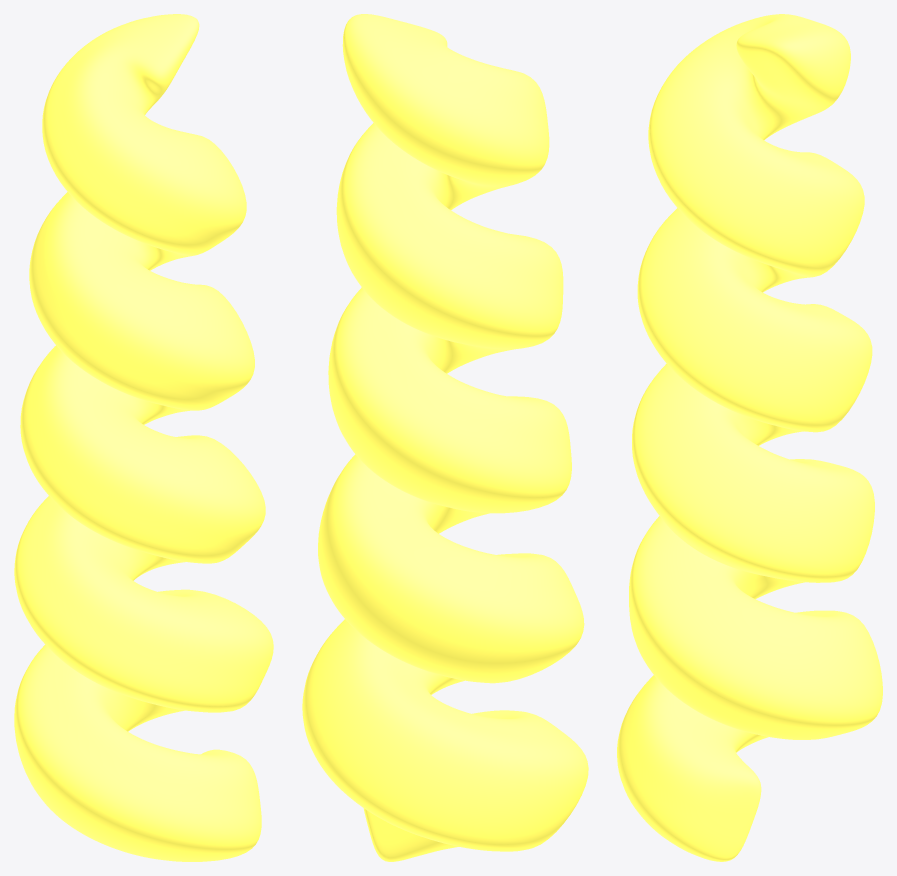
File: Fusili.003.gltf
The picture shows the model from 3 angles, left to right: view 1: azimuth 30°, elevation 25°; view 2: azimuth 150°, elevation 25°; view 3: azimuth 270°, elevation 25°; orthographic projection. The views are drawn at different scales.
Visible parts, largest first — view 1: Fusili.003; view 2: Fusili.003; view 3: Fusili.003.
Part boxes in pixels (box(x1,y1,x2,y2)): Fusili.003: box(14, 14, 273, 861); Fusili.003: box(302, 14, 588, 861); Fusili.003: box(617, 14, 882, 861).
Bounding box in the file's own units: 2.09 × 7.08 × 2.08.
